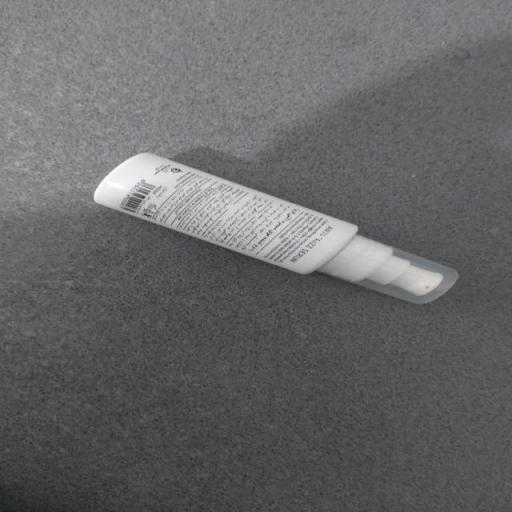plastic: (90, 151, 458, 308)
